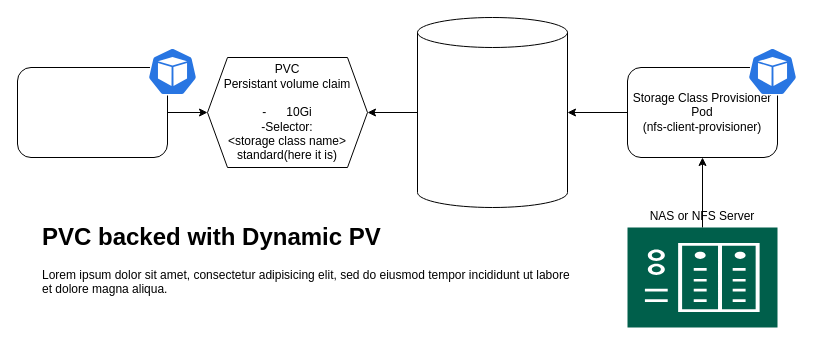
Some shapes in this 815 by 355 pixel diagram are drawn without their labels. Each missing label, with the centre of its shape:
"Pod which seeks PVC" belongs at point 92,112.
"Storage Class (Standard)" belongs at point 492,112.
